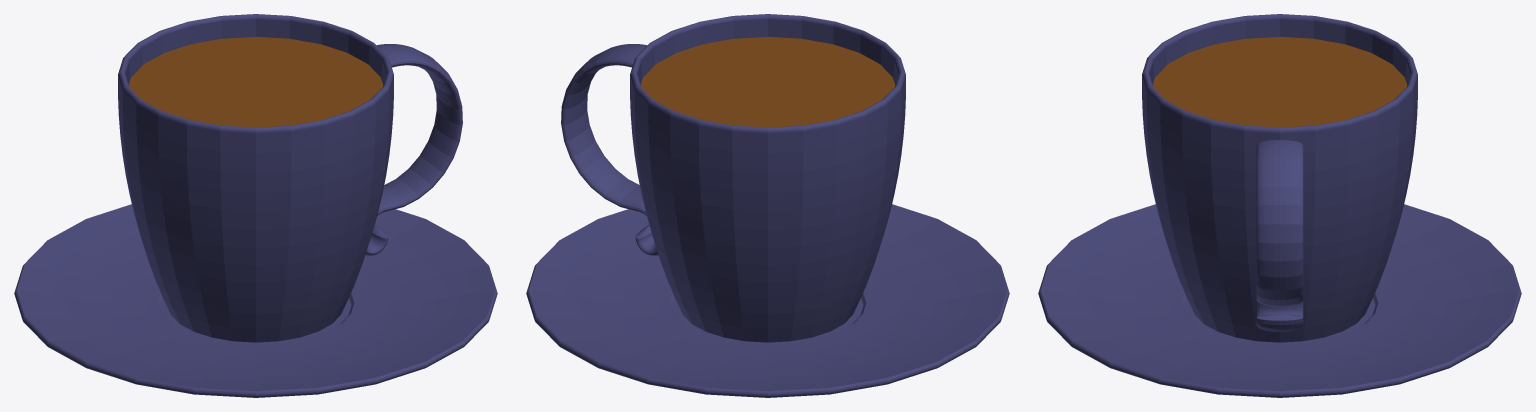
The picture shows the model from 3 angles, left to right: view 1: azimuth 30°, elevation 25°; view 2: azimuth 150°, elevation 25°; view 3: azimuth 270°, elevation 25°; orthographic projection.
Visible parts, largest first — view 1: mesh3_mesh3-geometry, mesh1_mesh1-geometry, mesh4_mesh4-geometry, mesh2_mesh2-geometry; view 2: mesh3_mesh3-geometry, mesh1_mesh1-geometry, mesh4_mesh4-geometry, mesh2_mesh2-geometry; view 3: mesh1_mesh1-geometry, mesh3_mesh3-geometry, mesh4_mesh4-geometry, mesh2_mesh2-geometry.
Boxes of the visible parts, left/top/right/bottom form: mesh3_mesh3-geometry: left=118, top=14, right=393, bottom=342; mesh1_mesh1-geometry: left=14, top=204, right=497, bottom=397; mesh4_mesh4-geometry: left=128, top=37, right=383, bottom=127; mesh2_mesh2-geometry: left=365, top=44, right=462, bottom=255; mesh3_mesh3-geometry: left=630, top=14, right=905, bottom=342; mesh1_mesh1-geometry: left=526, top=204, right=1009, bottom=397; mesh4_mesh4-geometry: left=640, top=37, right=895, bottom=127; mesh2_mesh2-geometry: left=561, top=44, right=658, bottom=255; mesh1_mesh1-geometry: left=1038, top=204, right=1521, bottom=397; mesh3_mesh3-geometry: left=1142, top=14, right=1417, bottom=342; mesh4_mesh4-geometry: left=1152, top=37, right=1407, bottom=127; mesh2_mesh2-geometry: left=1256, top=140, right=1303, bottom=331.
Bounding box in the file's own units: 0.6559 × 0.3738 × 0.6559.
